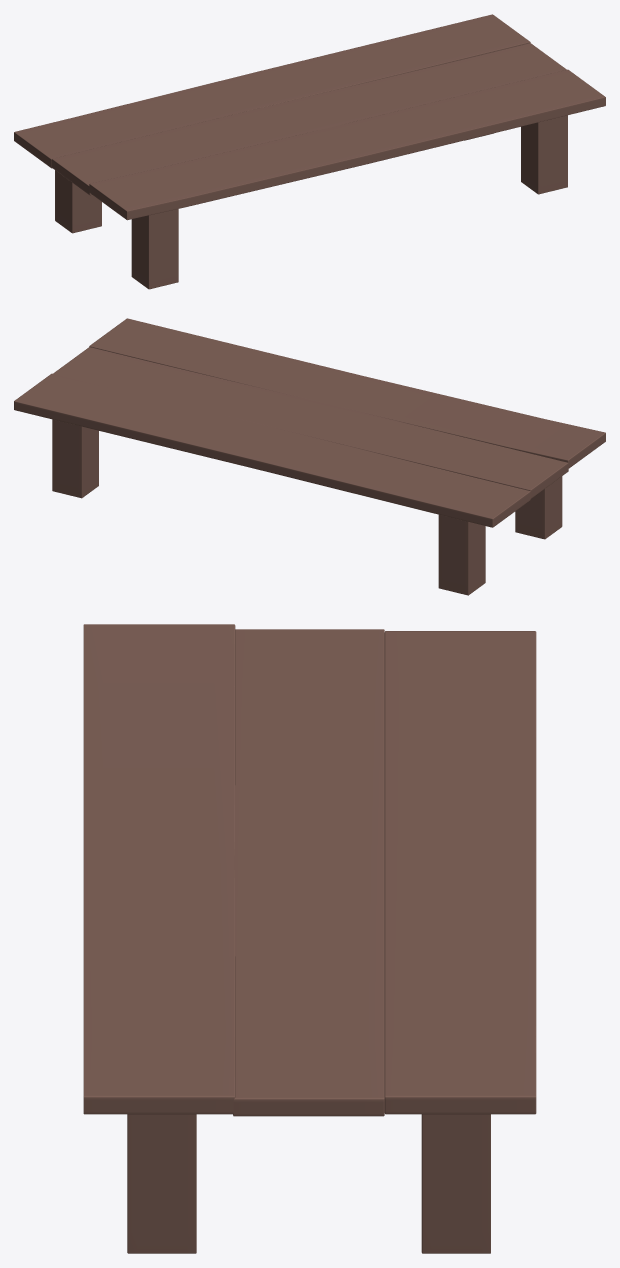
The model's file is Table.fbx.
3 views of the same model, one above another, from view 1: azimuth 30°, elevation 25°; view 2: azimuth 150°, elevation 25°; view 3: azimuth 270°, elevation 25° (orthographic). The views are drawn at different scales.
Parts seen in each view (by area): view 1: pCube56; view 2: pCube56; view 3: pCube56.
Part boxes in pixels (box(x1,y1,x2,y2)): pCube56: box(14, 14, 605, 289); pCube56: box(14, 318, 605, 595); pCube56: box(83, 624, 536, 1253).
Size of the model in its own units: 16 by 3.01 by 6.55.
